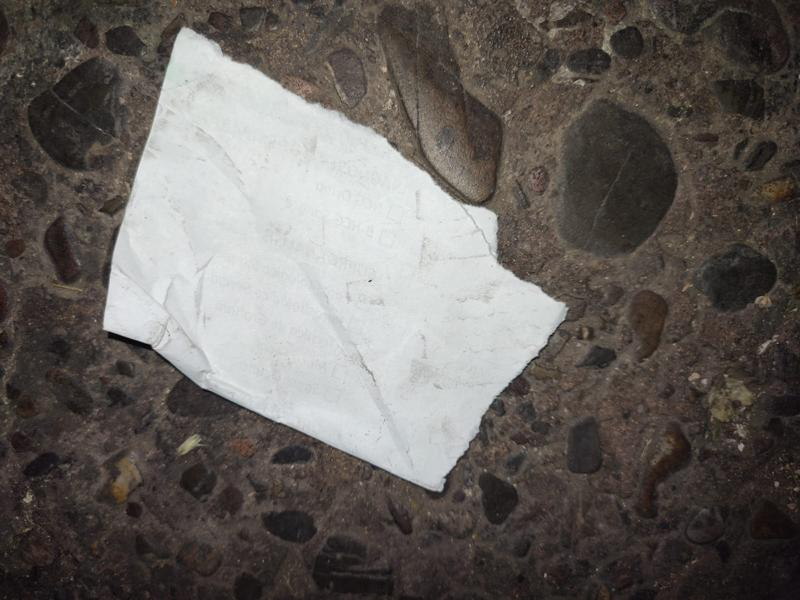papel: (98, 28, 571, 497)
